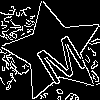M: (28, 26, 90, 87)
